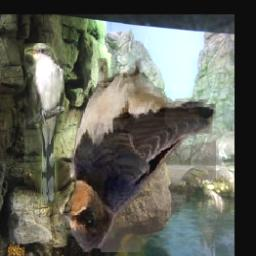Cuckoo: (25, 43, 65, 205)
Swallow: (64, 59, 217, 253)
